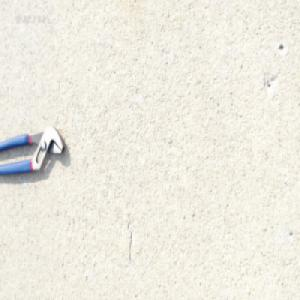Pliers: (0, 124, 65, 178)
